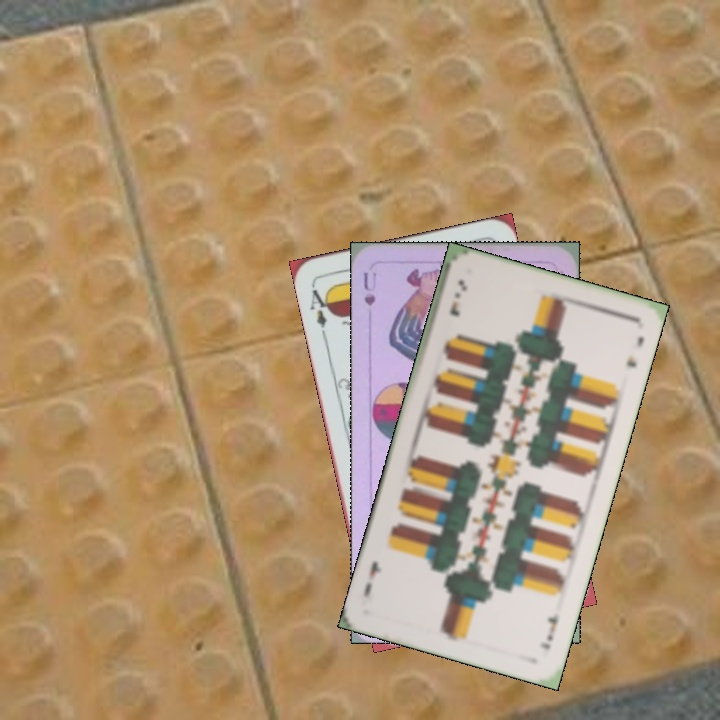E7: (445, 275, 470, 320), (536, 609, 561, 653)
EA: (306, 281, 335, 340)
SU: (360, 267, 379, 308)
